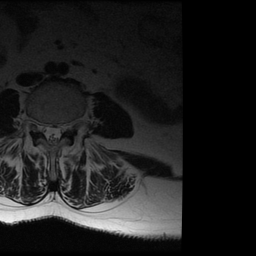CCS_normal: (49, 115, 55, 152)
LFS_normal: (63, 112, 71, 137)
LLS_normal: (55, 114, 63, 147)
RFS_normal: (33, 112, 41, 139)
RLS_normal: (41, 114, 49, 144)
